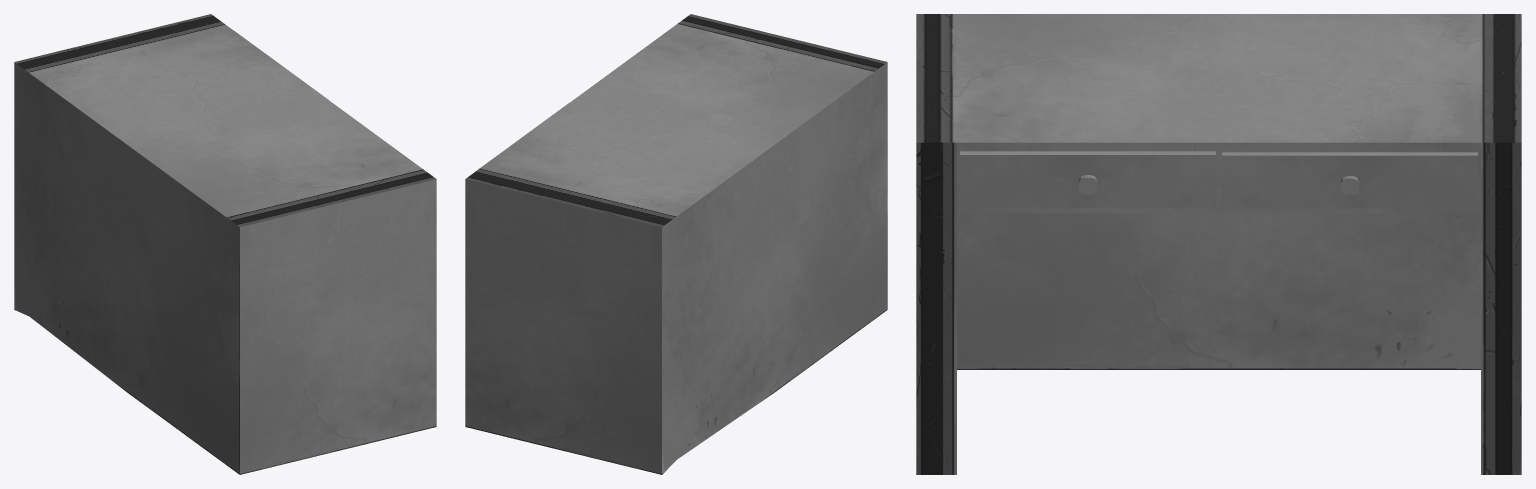
File: Env_Table.fbx
The picture shows the model from 3 angles, left to right: view 1: azimuth 30°, elevation 25°; view 2: azimuth 150°, elevation 25°; view 3: azimuth 270°, elevation 25°; orthographic projection. The views are drawn at different scales.
Visible parts, largest first — view 1: Table; view 2: Table; view 3: Table, Left_Shelve, Right_Shelve.
Boxes of the visible parts, x1=… form: Table: x1=14, y1=14, x2=436, y2=474; Table: x1=465, y1=14, x2=887, y2=474; Table: x1=916, y1=14, x2=1521, y2=474; Left_Shelve: x1=1222, y1=152, x2=1477, y2=208; Right_Shelve: x1=960, y1=151, x2=1215, y2=207.
Bounding box in the file's own units: 86.94 × 97.51 × 161.
